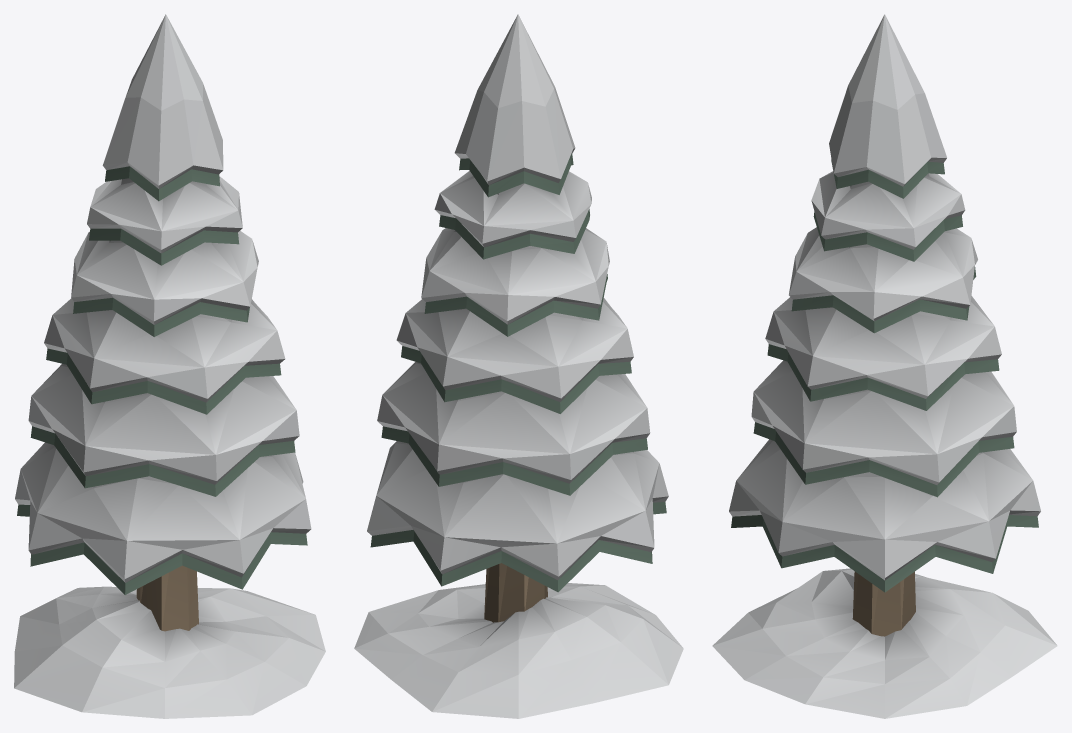
Rendered from spruce.glb.
3 renders of one model, left to right at view 1: azimuth 30°, elevation 25°; view 2: azimuth 150°, elevation 25°; view 3: azimuth 270°, elevation 25°, orthographic.
Visible parts, largest first — view 1: spruce; view 2: spruce; view 3: spruce.
Boxes of the visible parts, x1=… form: spruce: x1=14, y1=14, x2=325, y2=718; spruce: x1=354, y1=14, x2=683, y2=718; spruce: x1=712, y1=14, x2=1057, y2=718.
Size of the model in its own units: 3 by 6.06 by 3.
